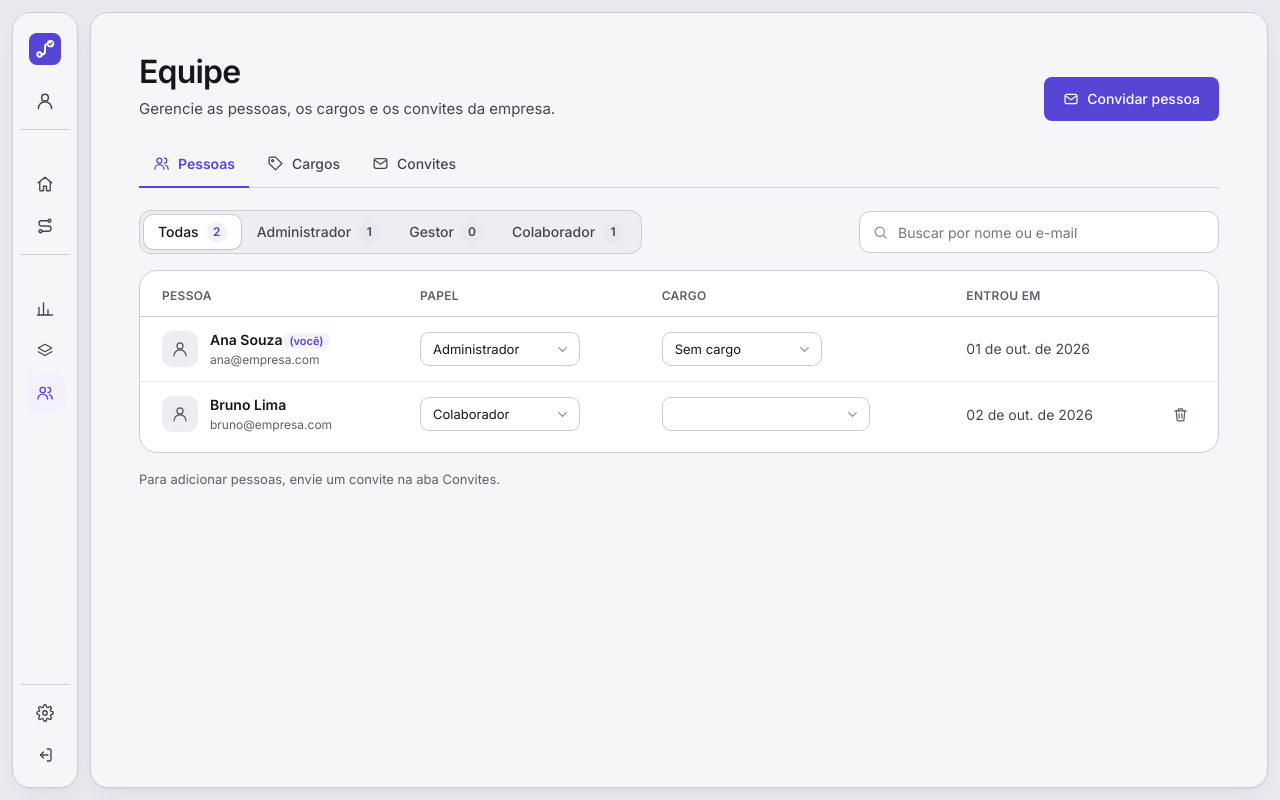
Test: equipe: pessoas › mostra o erro quando a API recusa a mudança
This screenshot has width=1280, height=800.
Select "Colaborador" in the dropdown named "Papel de Ana Souza" at (500,349), box [420,332,580,366]
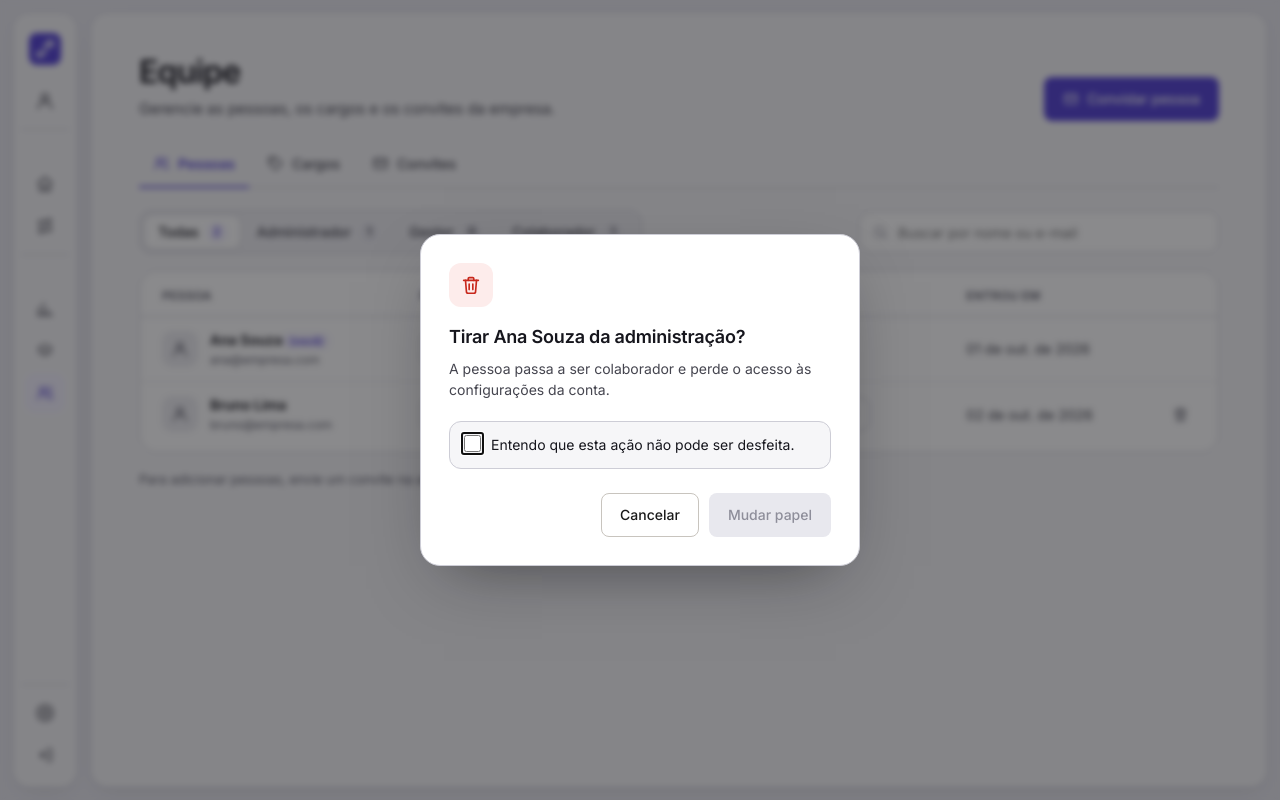
Expected: the button "Mudar papel" is disabled, [709,493,831,537]
Click the checkbox labelled "Entendo que esta ação não pode ser desfeita.".
click(472, 444)  # box [464,435,481,452]
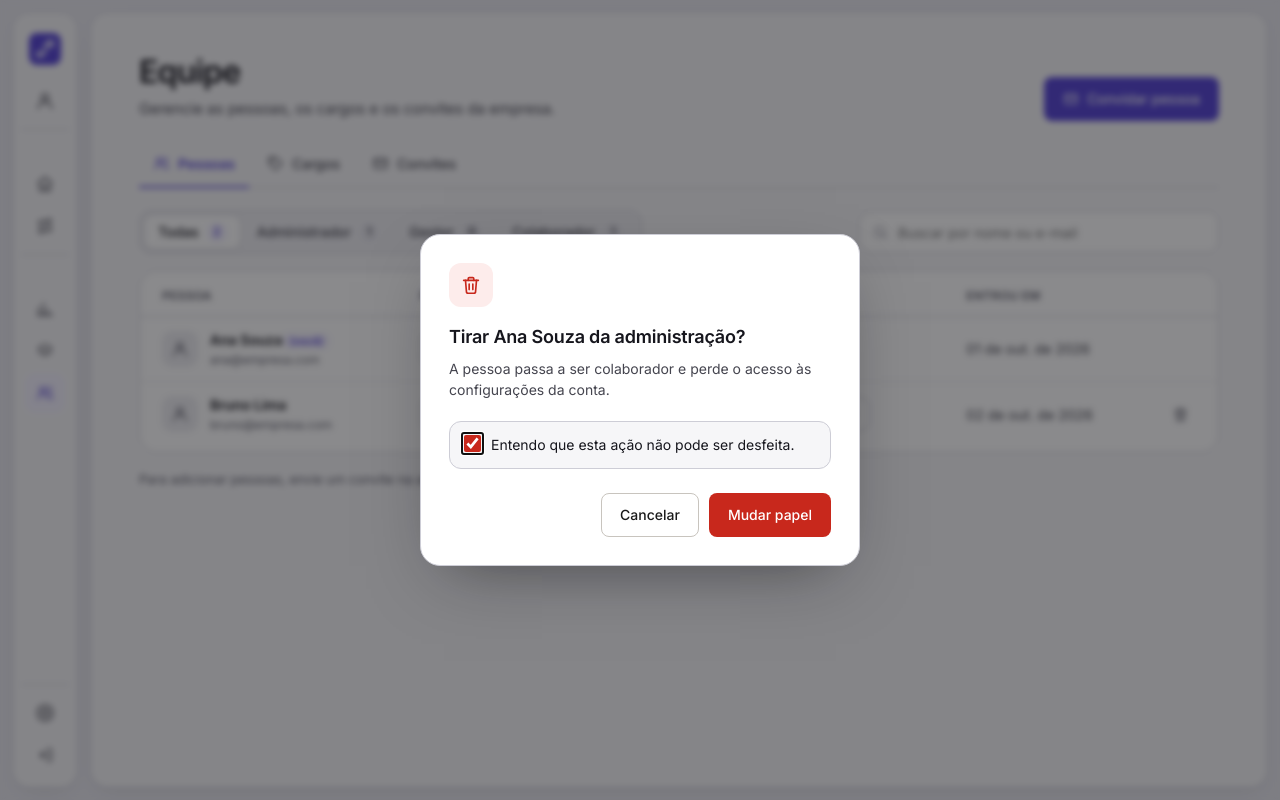
Click the button "Mudar papel".
click(770, 515)  # box [709,493,831,537]
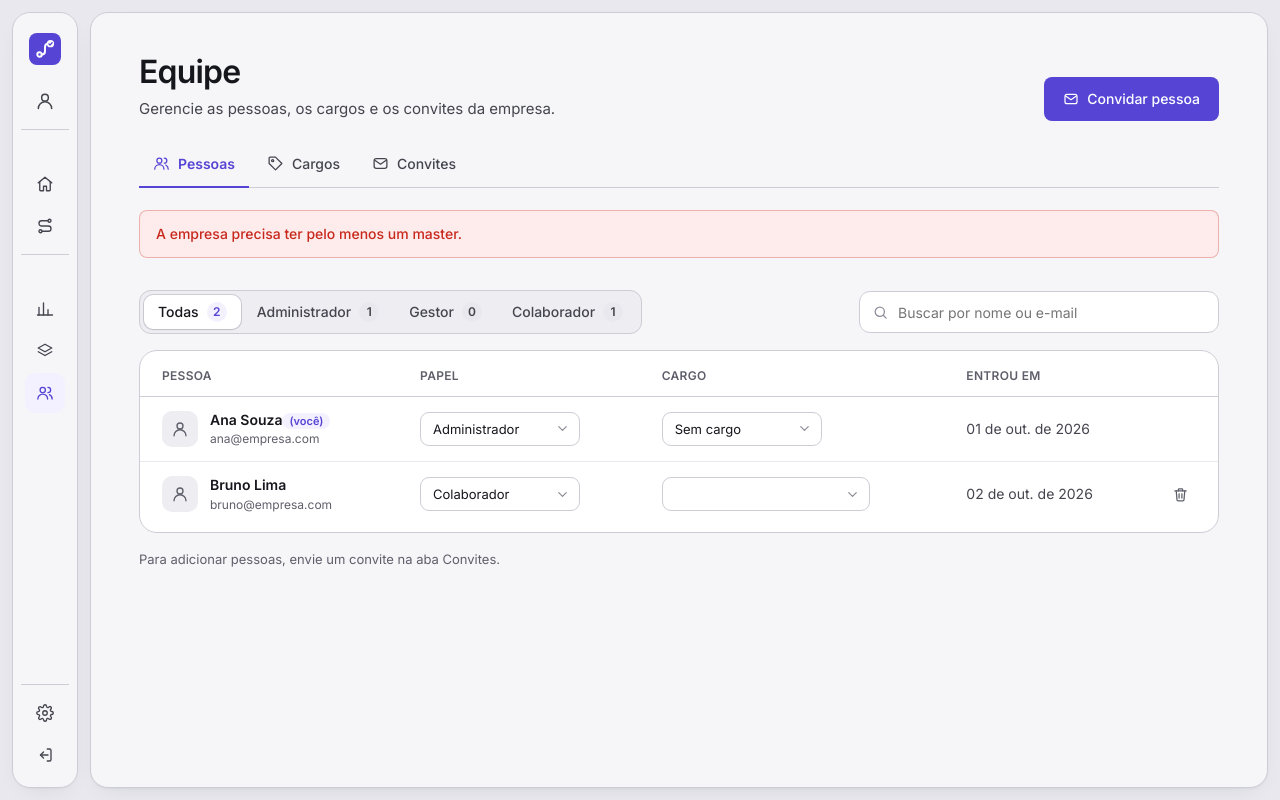
Expected: the message reads "A empresa precisa ter pelo menos um master.", [156,225,462,242]
